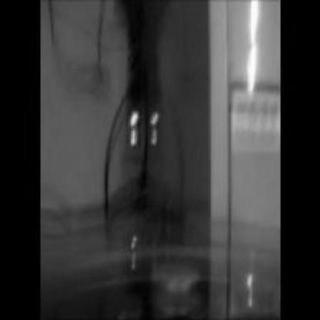other: (122, 97, 162, 151), (124, 224, 154, 276)
